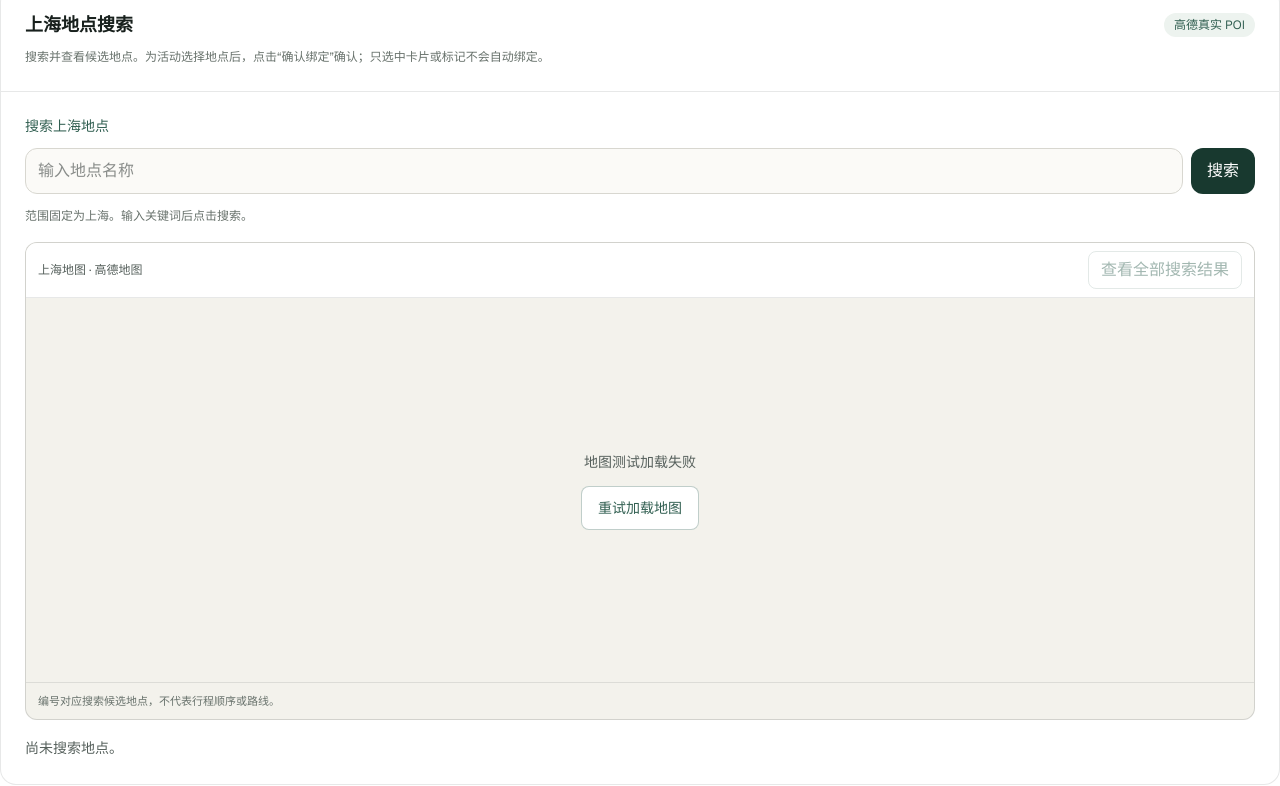
Scenario: PlaceExplorer › keeps list search usable when SDK loading fails
Expected: the text "地图测试加载失败" is shown, x1=581 y1=450 x2=699 y2=474
Step 1. Type "测试地点" into the field labelled "搜索上海地点" → (604, 171), box x1=25 y1=148 x2=1183 y2=194
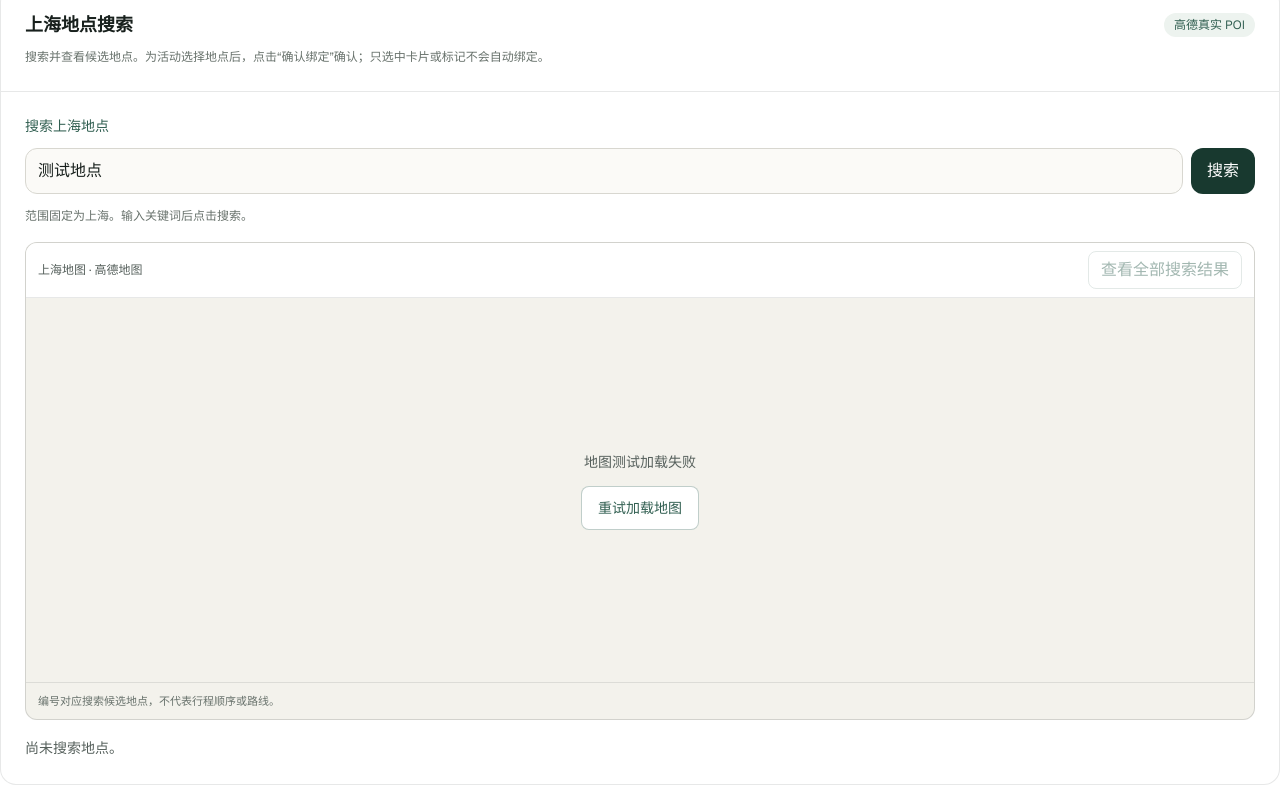
Step 2. Click the button "搜索" → (1223, 171), box x1=1191 y1=148 x2=1255 y2=194
(page scrolled)
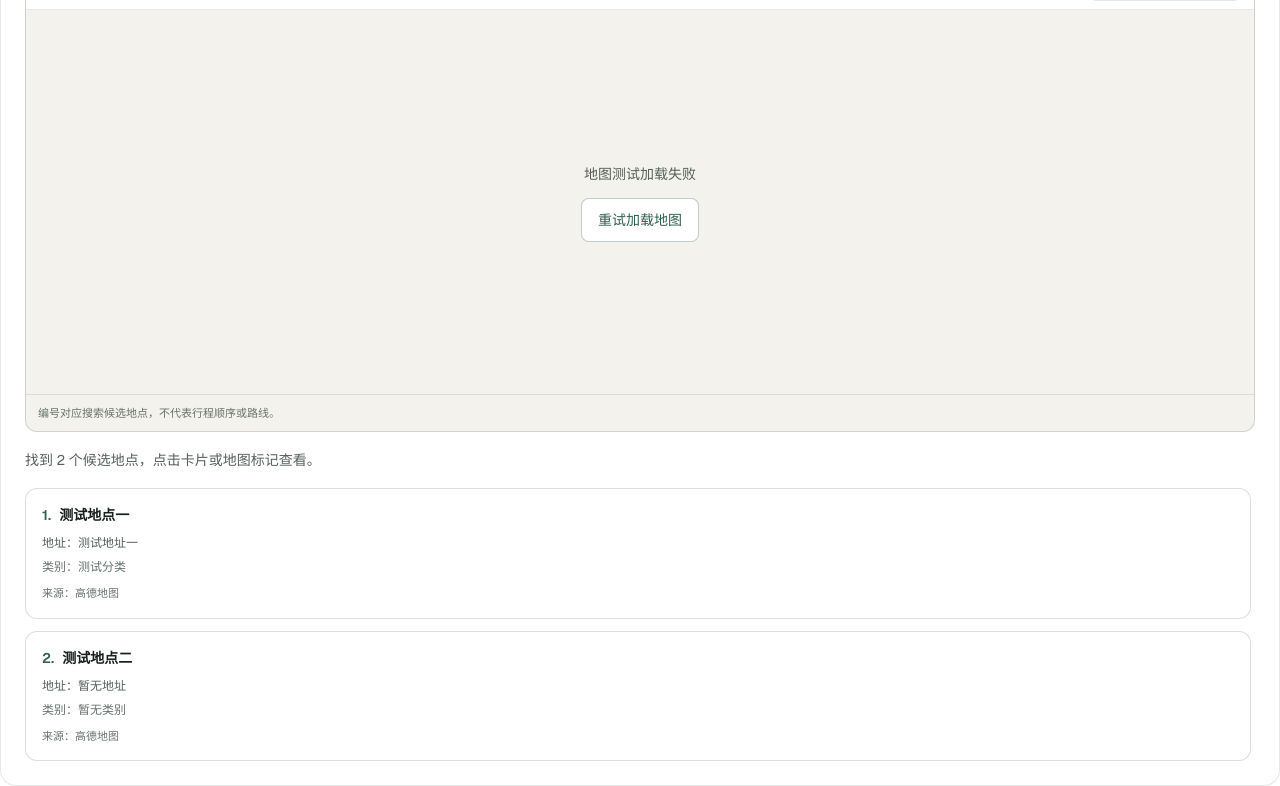
Expected: the button "1. 测试地点一 地址：测试地址一 类别：测试分类 来源：高德地图" is shown, x1=25 y1=488 x2=1251 y2=618
